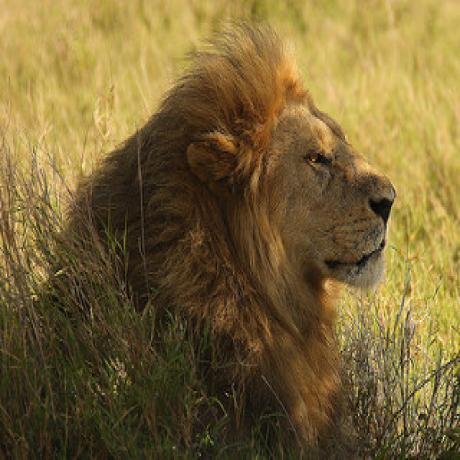Lion: (64, 30, 398, 460)
